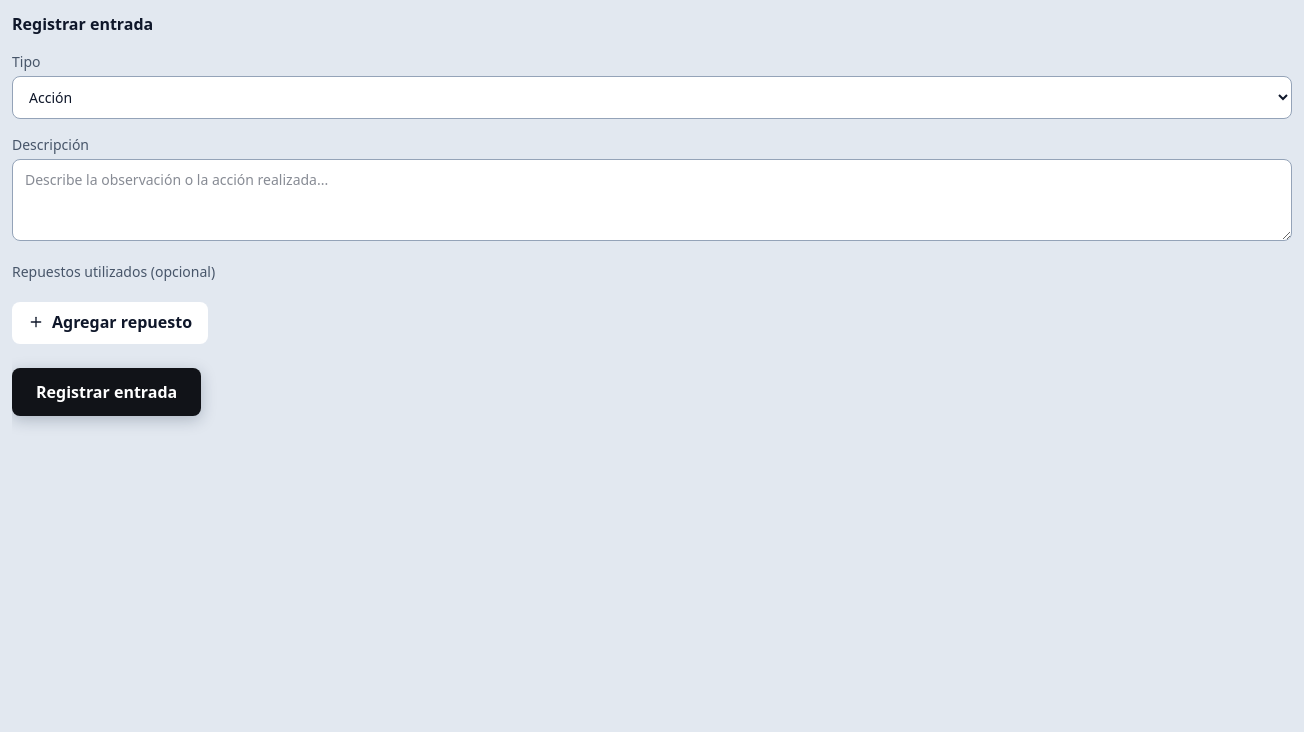
BitacoraForm › asocia los errores de cada repuesto con su campo
Type "Cambio de pastillas" into the text box named "Descripción de la entrada" at (652, 200), box [12,159,1292,241]
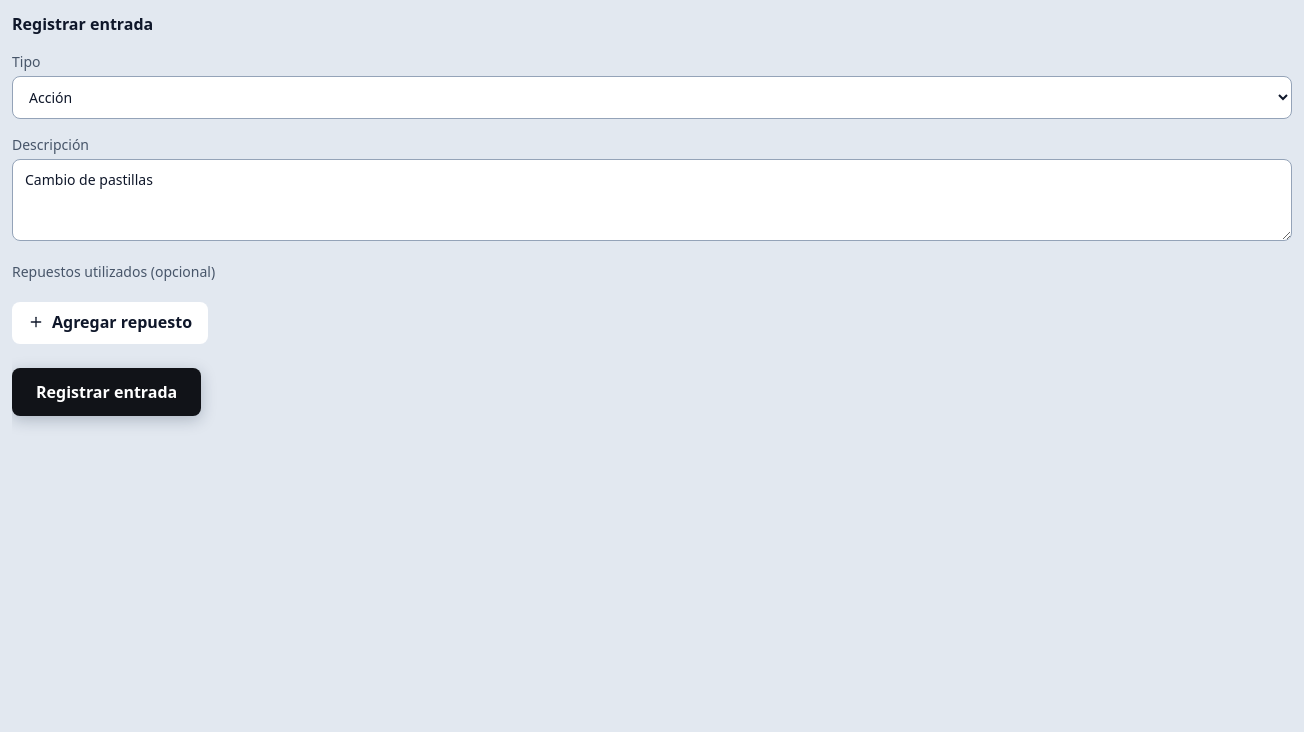
Click the button "Agregar repuesto" at (110, 323), box [12,302,208,344]
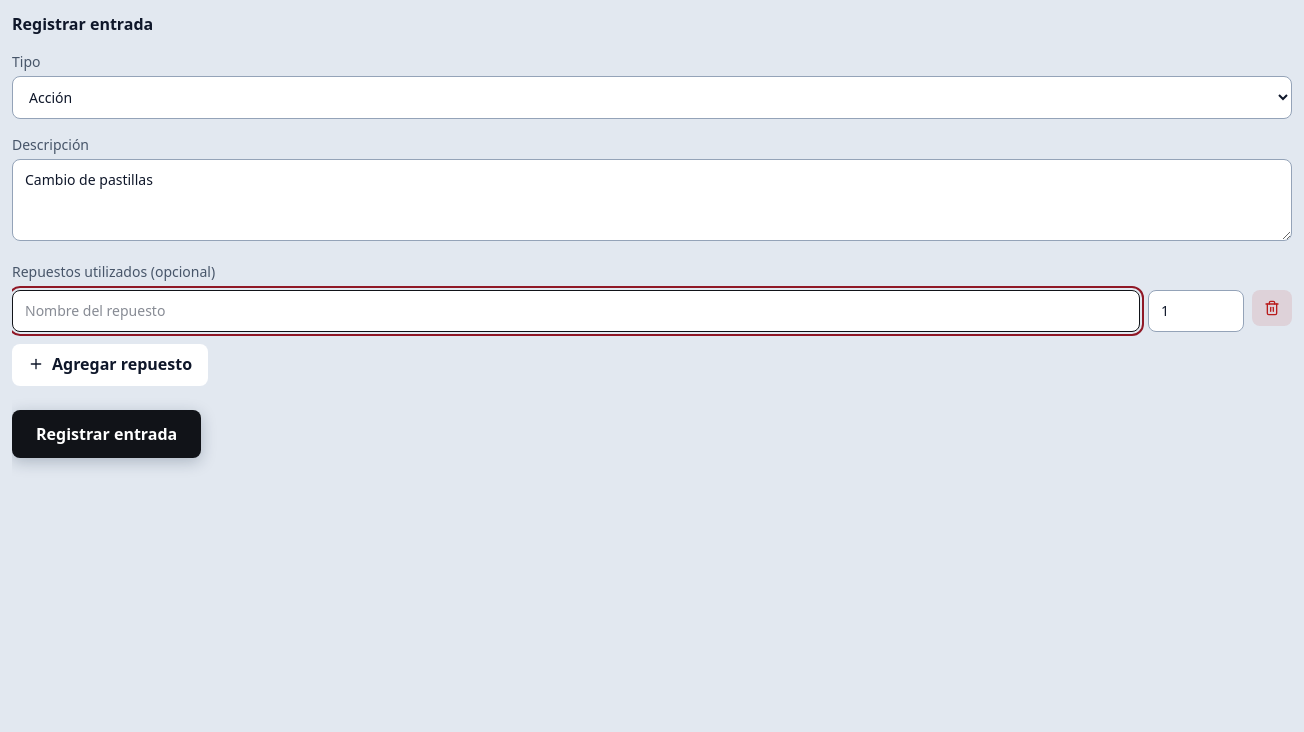
Click the button "Registrar entrada" at (107, 434), box [12,410,201,458]
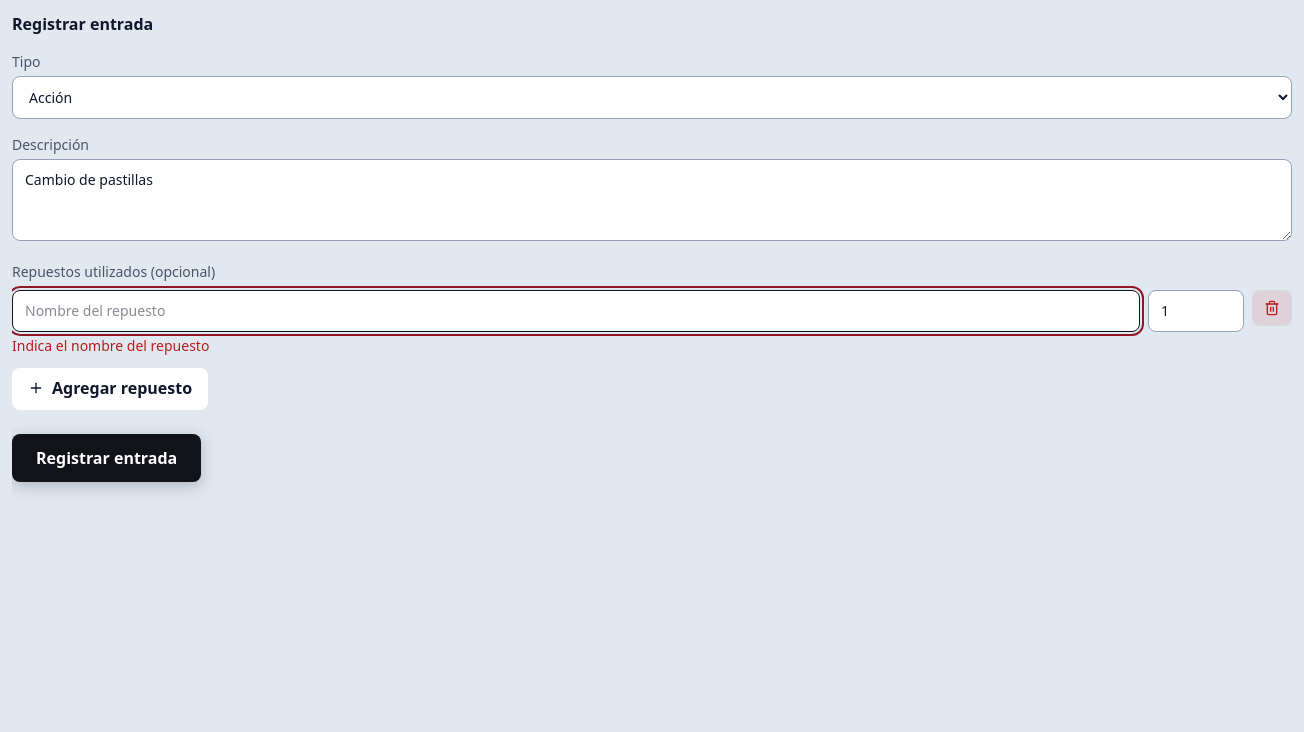
Now the text "Indica el nombre del repuesto" is shown, box [12,336,209,355]
Type "Pastillas" into the field named "Nombre del repuesto 1" at (576, 311), box [12,290,1140,332]
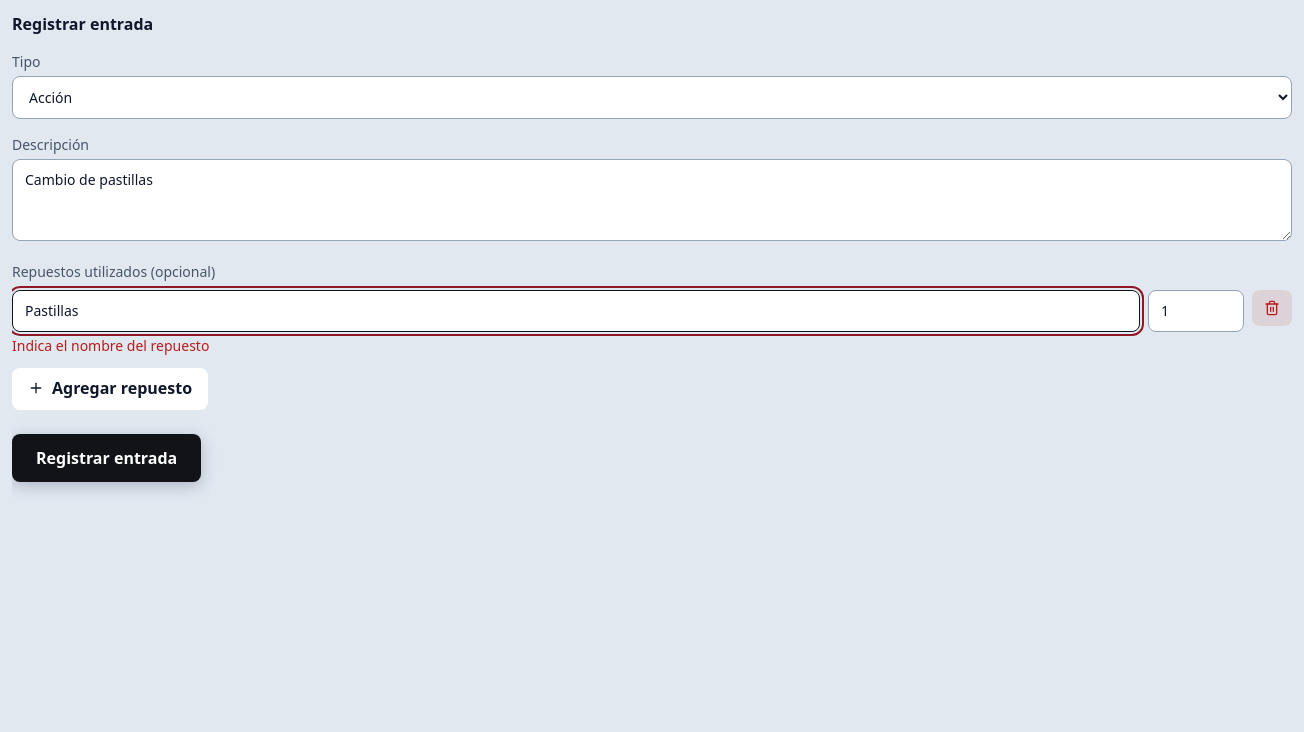
Replace the text in the number field named "Cantidad del repuesto 1" with "0" at (1196, 311), box [1148,290,1244,332]
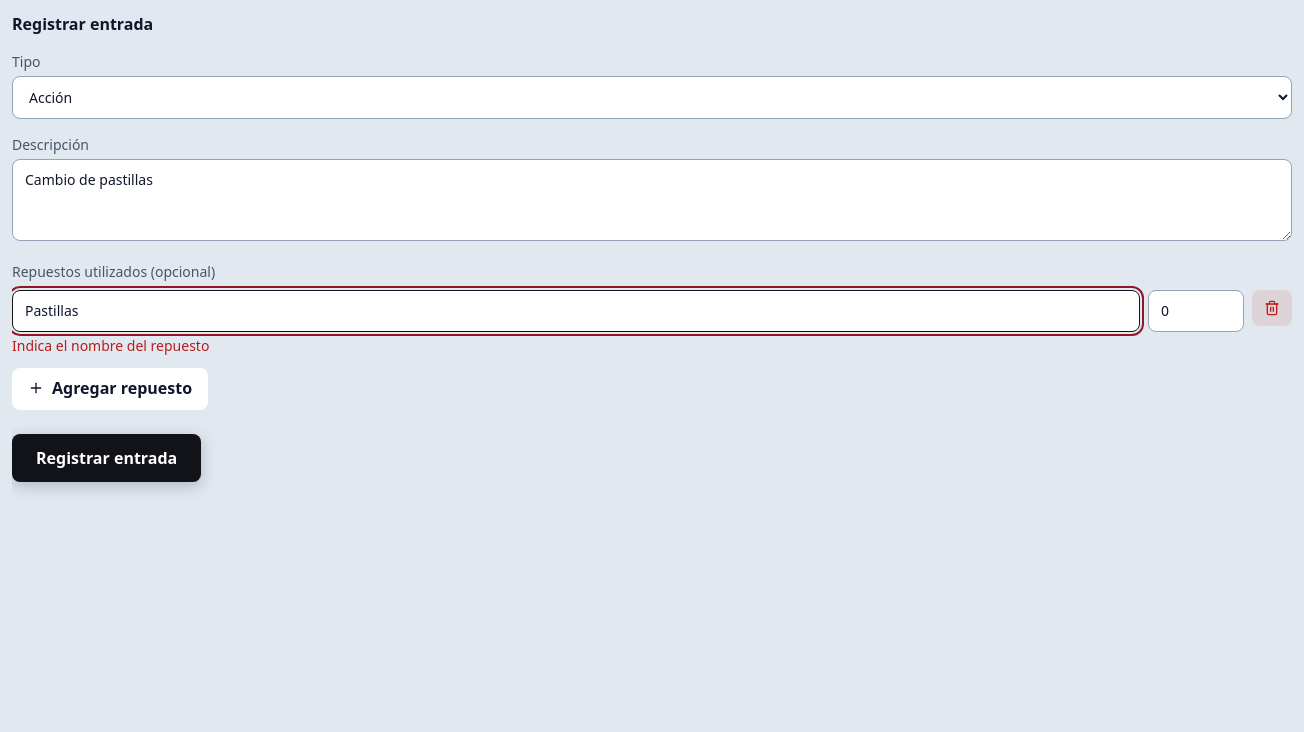
Click the button "Registrar entrada" at (107, 458), box [12,434,201,482]
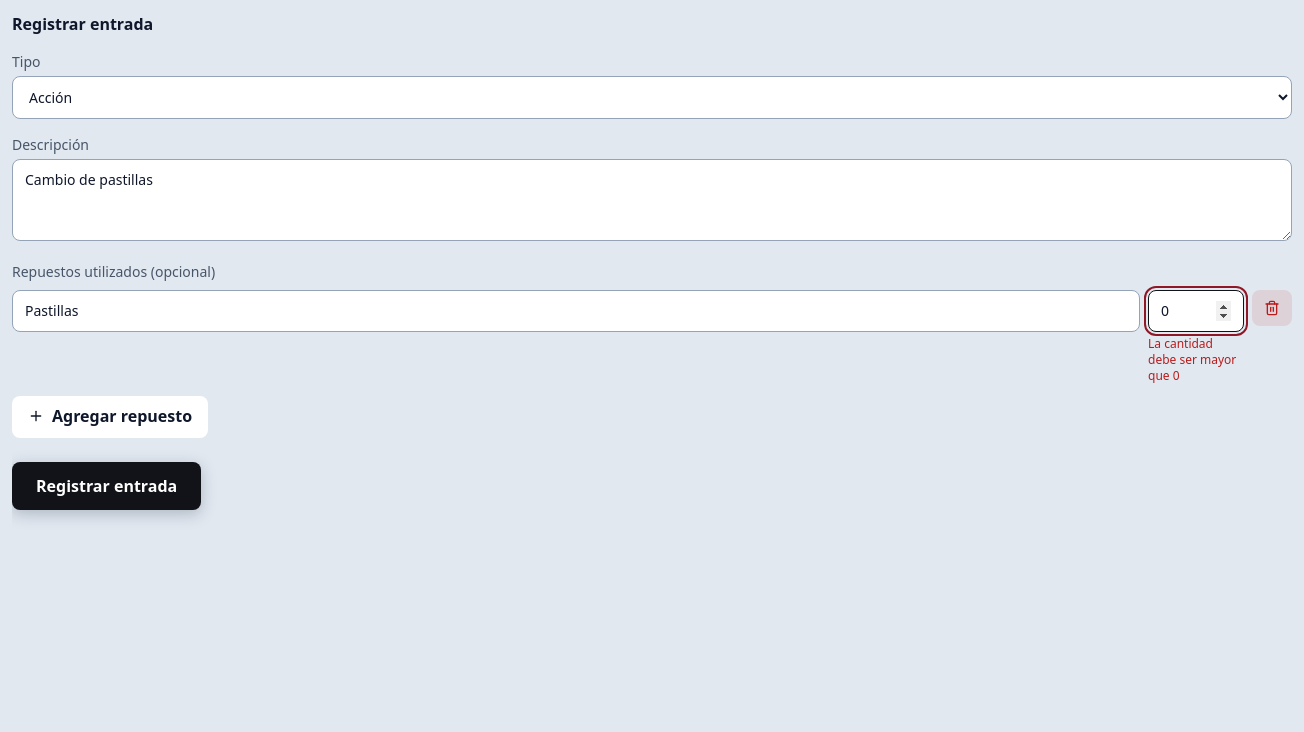
Now the text "La cantidad debe ser mayor que 0" is shown, box [1148,336,1244,384]
